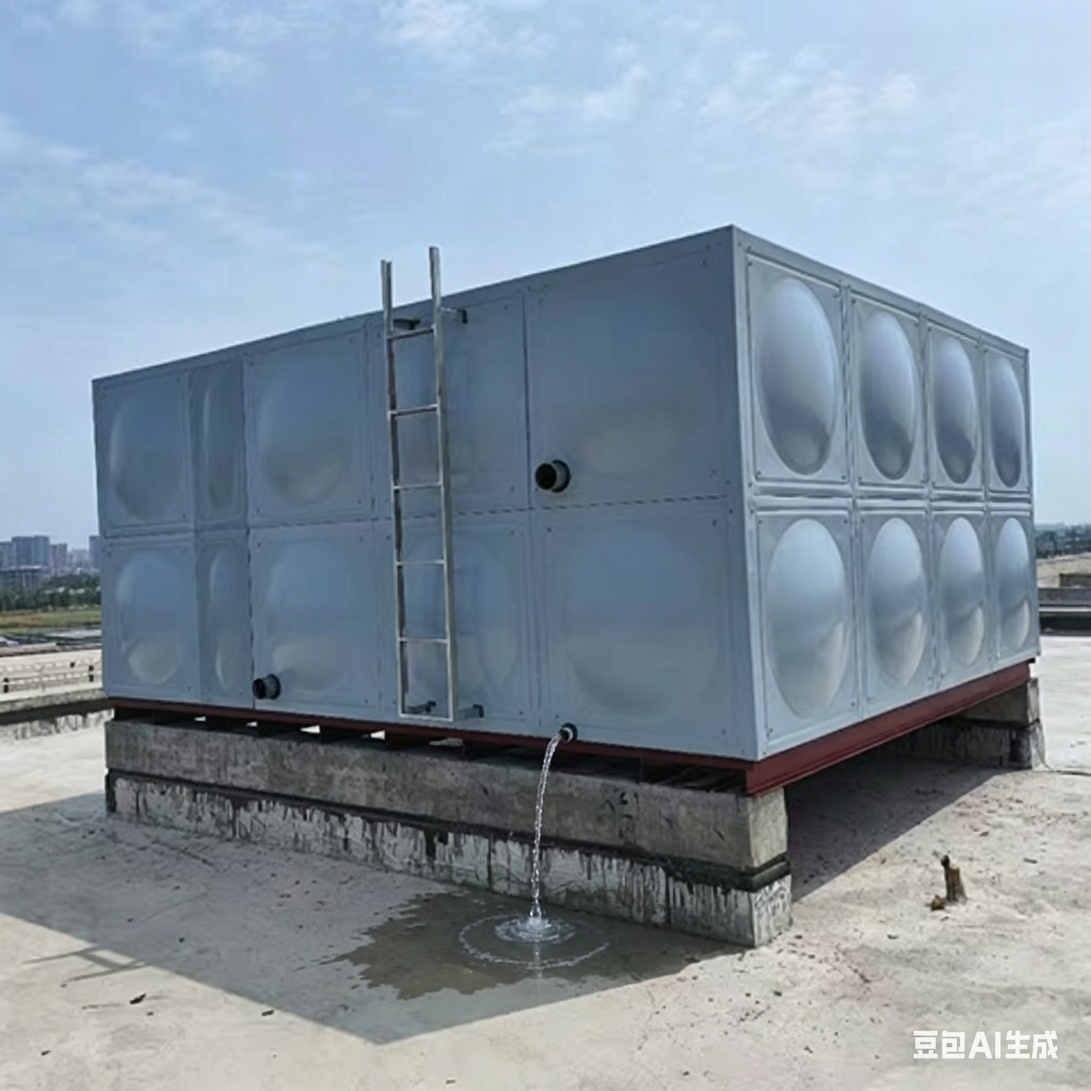Leakage: (493, 722, 606, 983), (371, 886, 485, 999), (616, 927, 718, 971)
